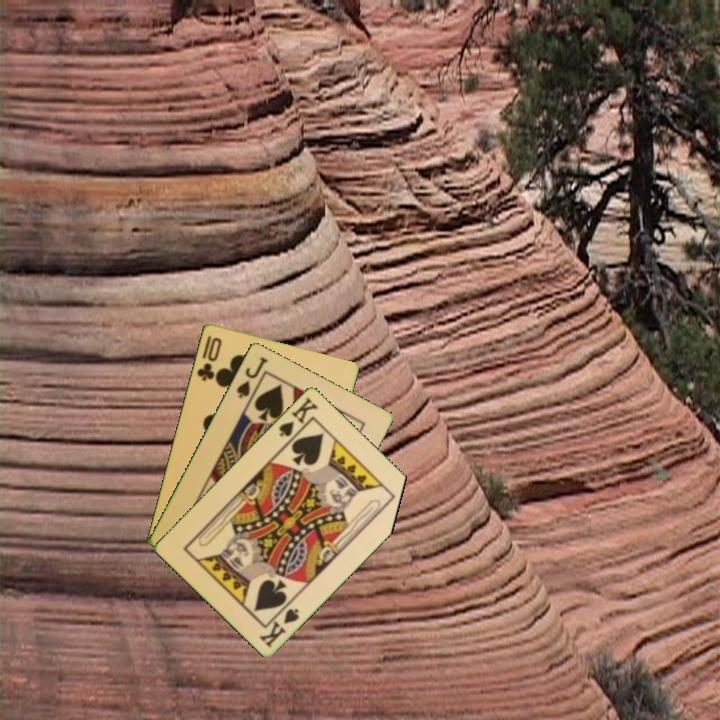10c: (193, 333, 224, 384)
Js: (233, 353, 270, 401)
Ks: (275, 393, 321, 445), (255, 604, 302, 650)
